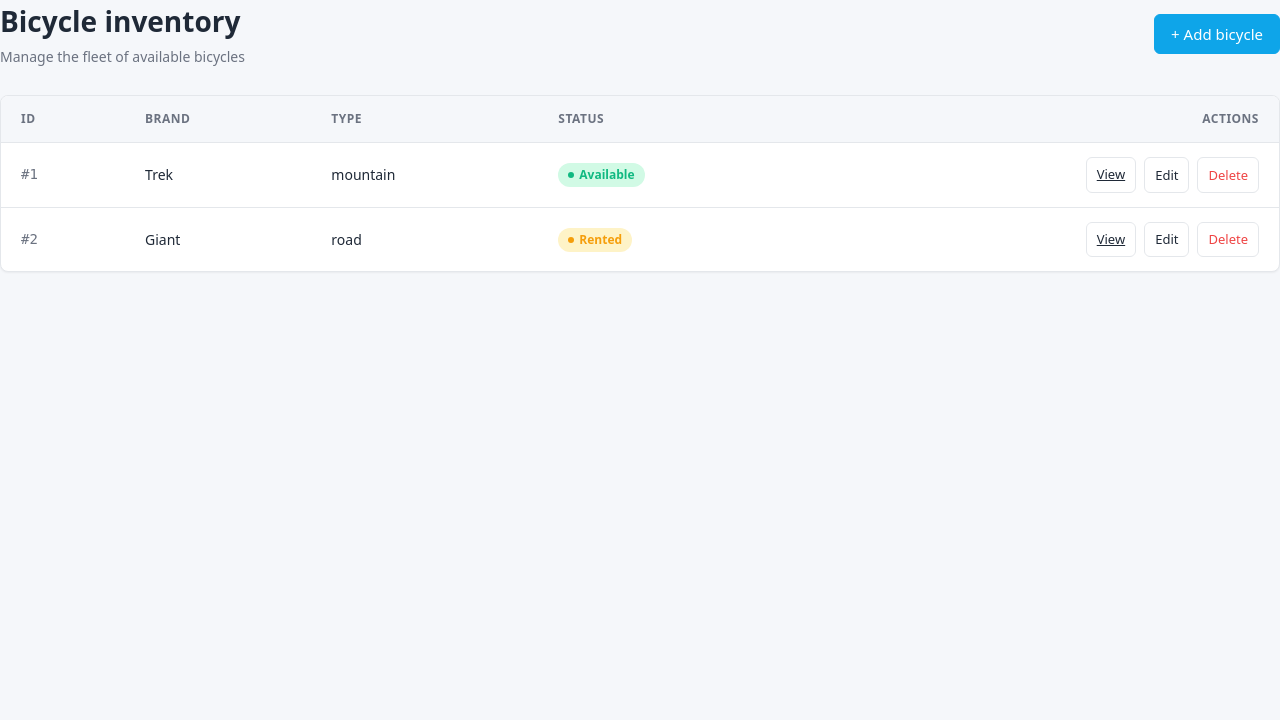
Test: BicyclesPage — admin user › opens Edit bicycle modal with pre-filled values
Expected: the text "Trek" is shown, [125, 142, 311, 207]
Click the button "Edit" in the row of "Trek" at (1167, 175), box [1144, 157, 1190, 192]
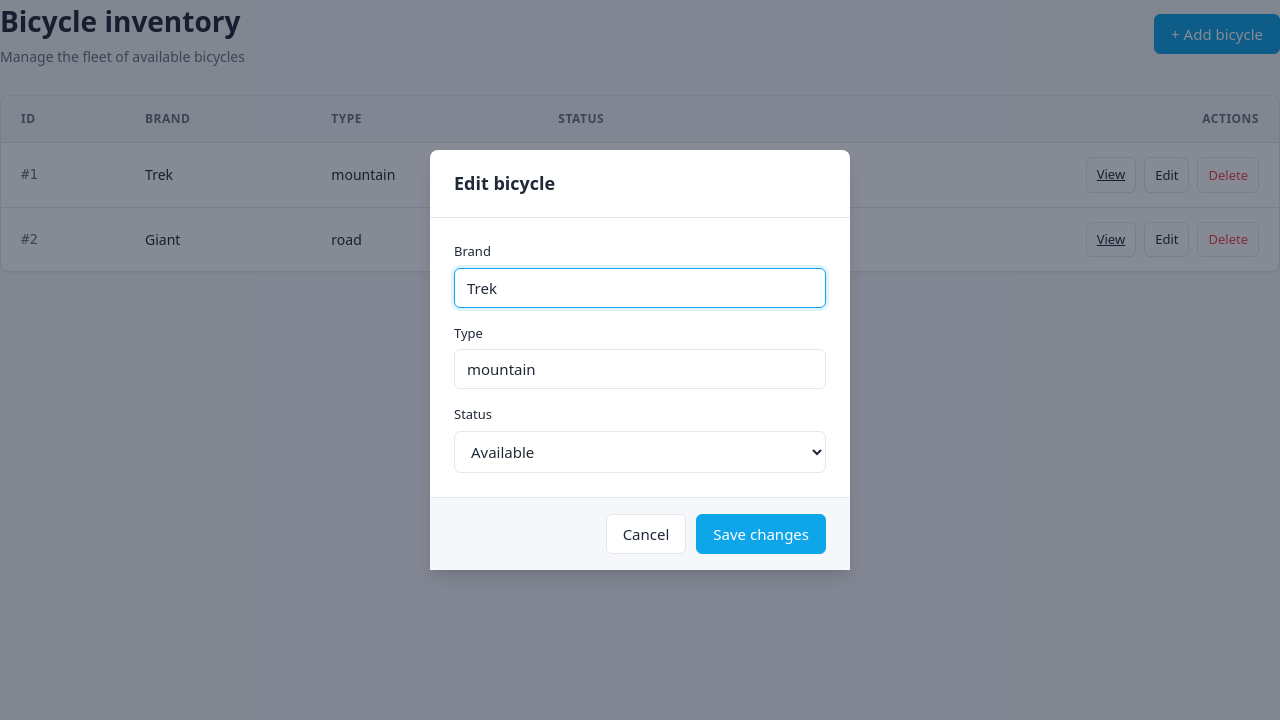
Expected: the heading "Edit bicycle" is shown, [454, 171, 555, 195]
Expected: the 1st field showing "Trek" is shown, [454, 268, 826, 308]
